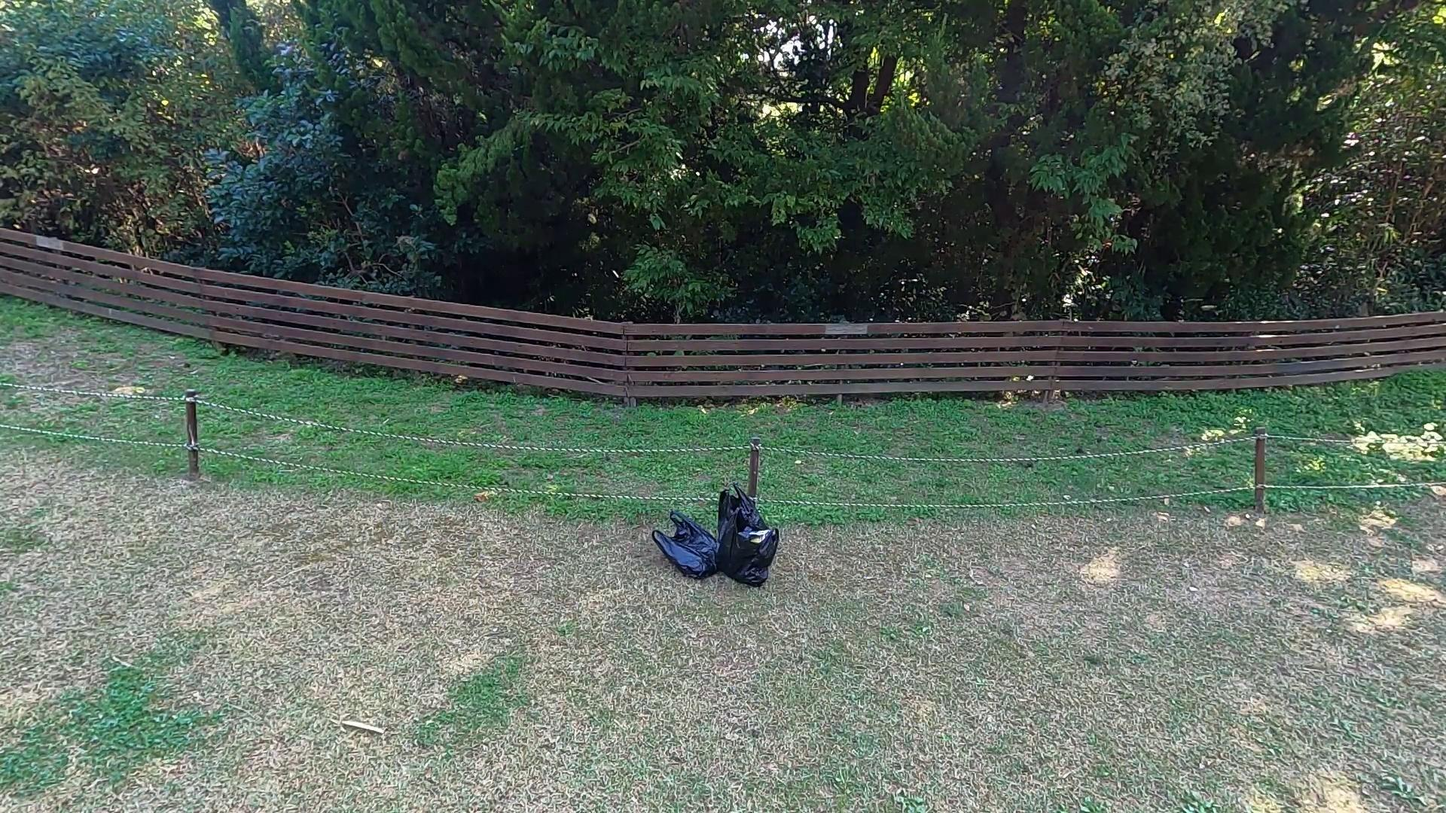trash: (713, 506, 779, 588), (652, 508, 722, 581), (711, 483, 771, 566)
